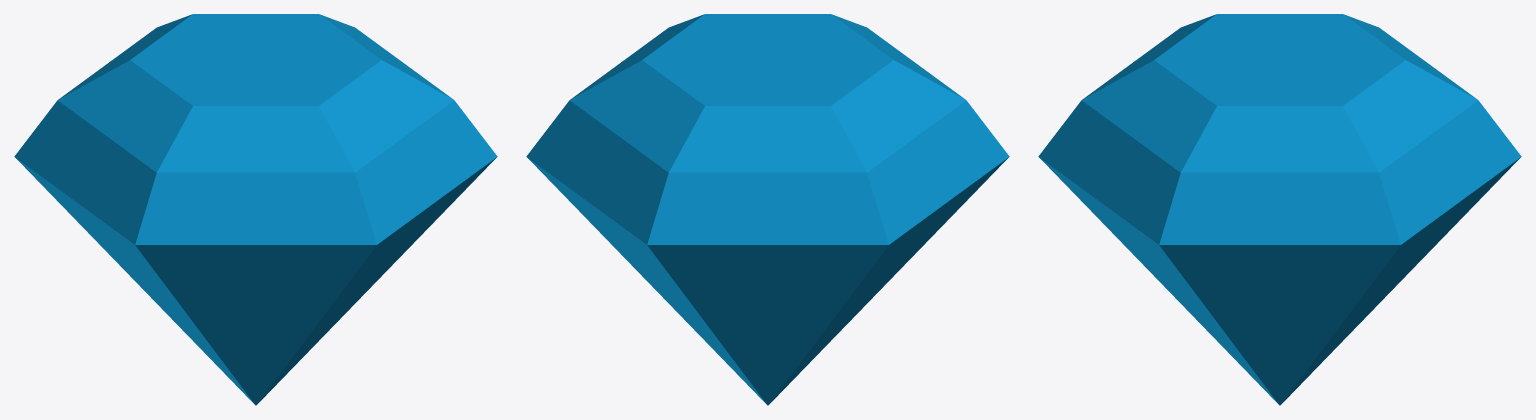
File: ringbox (2).fbx
3 renders of one model, left to right at view 1: azimuth 30°, elevation 25°; view 2: azimuth 150°, elevation 25°; view 3: azimuth 270°, elevation 25°, orthographic.
Visible parts, largest first — view 1: ring's diamond; view 2: ring's diamond; view 3: ring's diamond.
Part boxes in pixels (left/top/right/bottom): ring's diamond: left=14, top=14, right=497, bottom=405; ring's diamond: left=526, top=14, right=1009, bottom=405; ring's diamond: left=1038, top=14, right=1521, bottom=405.
Size of the model in its own units: 29.9 by 27.27 by 34.53.
